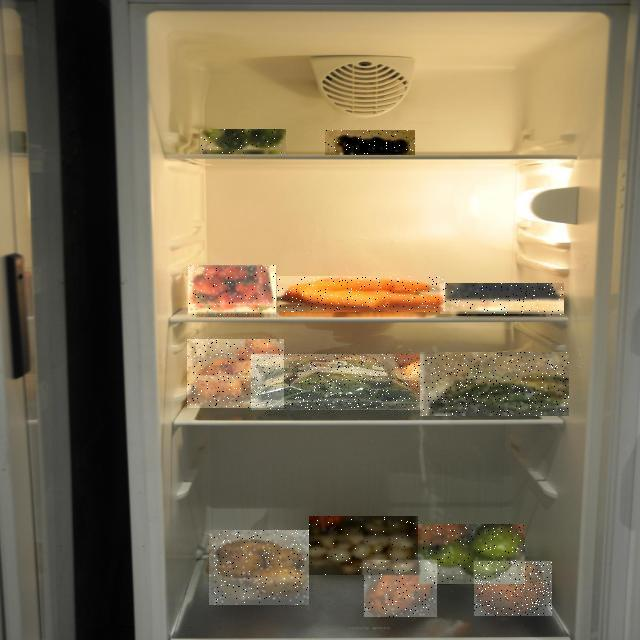Apple: (419, 524, 525, 584)
Beans: (420, 352, 569, 416)
Blue Berries: (325, 130, 415, 155)
Carrot: (277, 276, 445, 312)
Lime: (201, 130, 287, 154)
Meat: (440, 284, 564, 316)
Mushroom: (310, 516, 420, 575)
Onion: (187, 339, 284, 408)
Potatoes: (209, 530, 309, 605)
Spinach: (251, 355, 424, 411)
Straw Berry: (188, 266, 276, 316)
Sweet potato: (475, 561, 553, 616), (364, 560, 437, 617)
